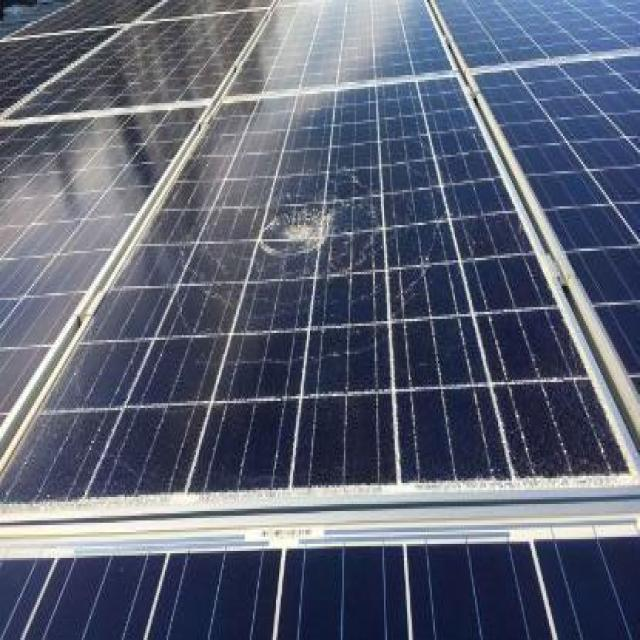cracked: (86, 98, 622, 494)
